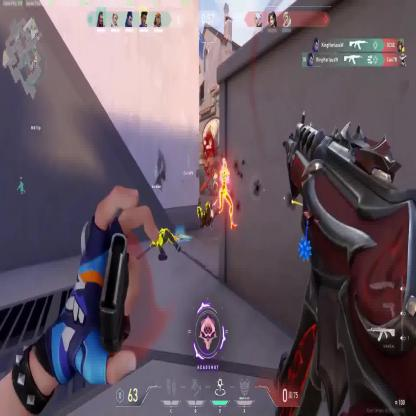enemy: (210, 156, 238, 229), (212, 169, 218, 200)
enemy_head: (222, 158, 227, 172), (214, 169, 217, 175)
